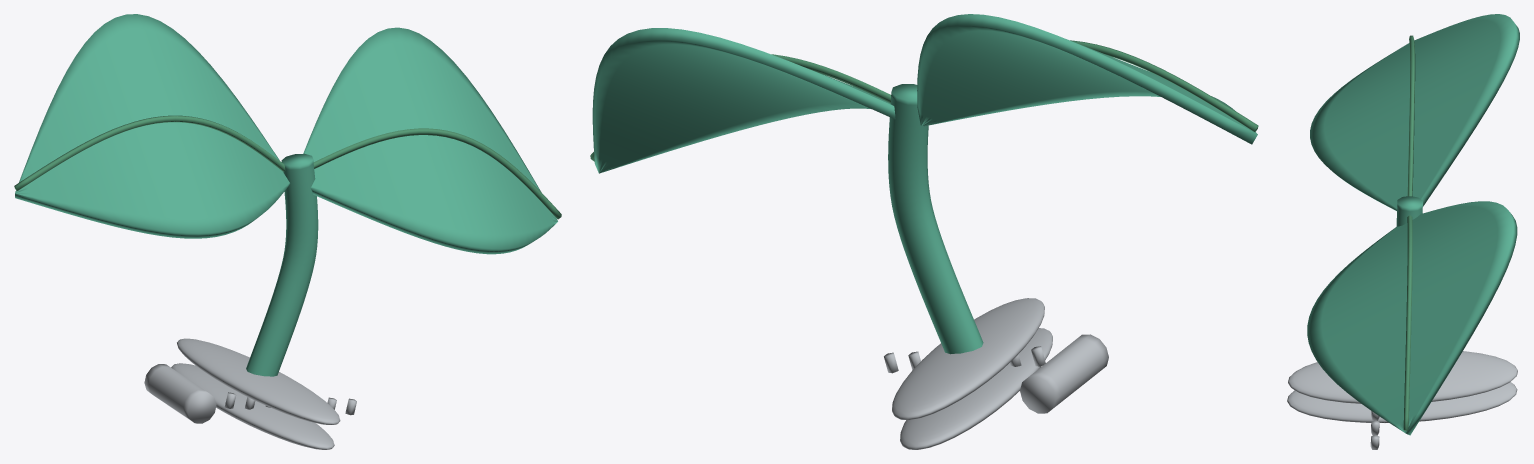
Rendered from Masculine-taper--ears-sprout.glb.
3 views of the same model, side by side, from view 1: azimuth 30°, elevation 25°; view 2: azimuth 150°, elevation 25°; view 3: azimuth 270°, elevation 25° (orthographic). The views are drawn at different scales.
Visible parts, largest first — view 1: 226 extra / Accessory / mint226, 226 extra / Sprout / clip silver235, 226 extra / Sprout / leaf vein235; view 2: 226 extra / Accessory / mint226, 226 extra / Sprout / clip silver235, 226 extra / Sprout / leaf vein235; view 3: 226 extra / Accessory / mint226, 226 extra / Sprout / clip silver235, 226 extra / Sprout / leaf vein235.
Boxes of the visible parts, x1,y1,x2,y2 form: 226 extra / Accessory / mint226: (15, 14, 557, 376); 226 extra / Sprout / clip silver235: (144, 338, 356, 449); 226 extra / Sprout / leaf vein235: (14, 115, 561, 219); 226 extra / Accessory / mint226: (592, 14, 1257, 354); 226 extra / Sprout / clip silver235: (884, 298, 1108, 449); 226 extra / Sprout / leaf vein235: (590, 40, 1258, 161); 226 extra / Accessory / mint226: (1307, 14, 1519, 435); 226 extra / Sprout / clip silver235: (1287, 351, 1517, 449); 226 extra / Sprout / leaf vein235: (1403, 35, 1415, 430).
Size of the model in its own units: 0.2618 by 0.1754 by 0.1044.
